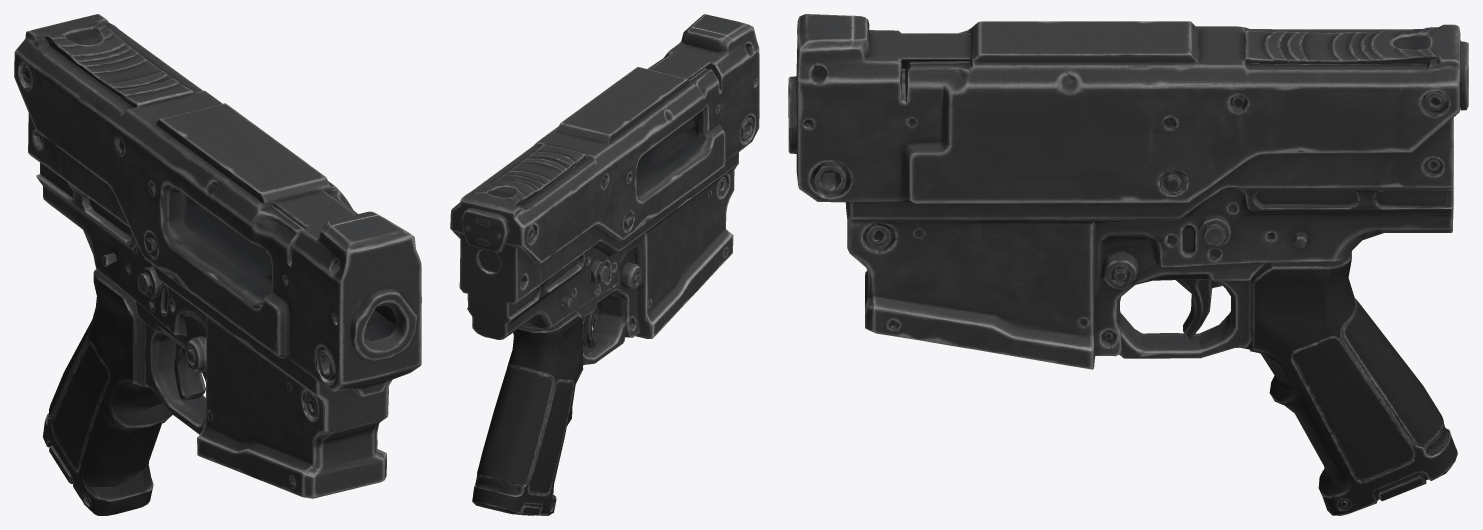
Rendered from rustworn.high.glb.
3 views of the same model, side by side, from view 1: azimuth 30°, elevation 25°; view 2: azimuth 150°, elevation 25°; view 3: azimuth 270°, elevation 25° (orthographic). The views are drawn at different scales.
Parts seen in each view (by area): view 1: model; view 2: model; view 3: model.
Boxes of the visible parts, x1,y1,x2,y2 form: model: (14,14,421,515); model: (450,14,759,515); model: (788,14,1468,515).
Size of the model in its own units: 0.0808 by 0.3412 by 0.44.
Materials: 1 (1 with a texture image).
